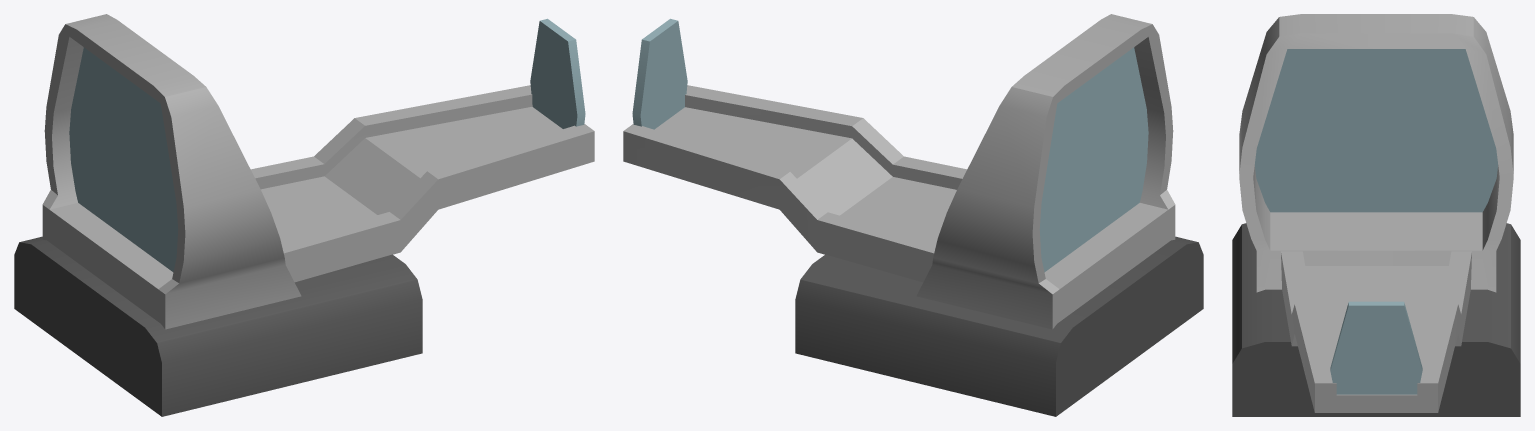
File: Sight_1.gltf
The picture shows the model from 3 angles, left to right: view 1: azimuth 30°, elevation 25°; view 2: azimuth 150°, elevation 25°; view 3: azimuth 270°, elevation 25°; orthographic projection. The views are drawn at different scales.
Parts seen in each view (by area): view 1: Sight_1; view 2: Sight_1; view 3: Sight_1.
Part boxes in pixels (x1=…): Sight_1: x1=14, y1=14, x2=594, y2=416; Sight_1: x1=623, y1=14, x2=1203, y2=416; Sight_1: x1=1232, y1=14, x2=1520, y2=416.
Size of the model in its own units: 0.1819 by 0.1093 by 0.098.
